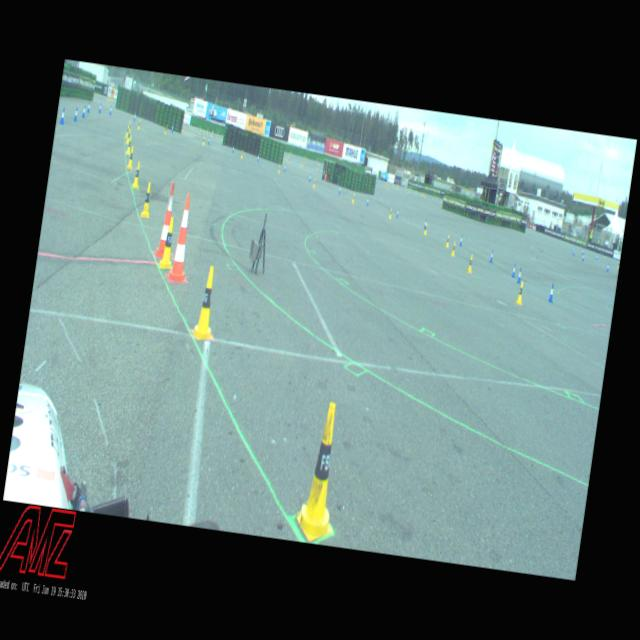blue_cone: (548, 284, 555, 302), (60, 108, 66, 124), (516, 268, 522, 284), (512, 264, 517, 278), (74, 106, 78, 122), (489, 250, 494, 262), (459, 234, 464, 246), (82, 106, 86, 118), (606, 263, 610, 272), (338, 185, 342, 194), (308, 174, 312, 182), (424, 218, 427, 228), (109, 106, 112, 115), (396, 209, 399, 218), (99, 103, 102, 112), (366, 197, 369, 206), (171, 124, 174, 133), (232, 145, 235, 153), (88, 102, 90, 113), (208, 136, 210, 146), (134, 112, 136, 121), (284, 164, 286, 172), (573, 248, 575, 256), (583, 253, 585, 260), (258, 155, 260, 162), (596, 254, 598, 260), (582, 248, 584, 254), (573, 246, 574, 252)
large_orange_cone: (167, 194, 198, 282), (155, 182, 176, 258)
yellow_cone: (294, 400, 349, 542), (191, 266, 222, 342), (158, 216, 178, 268), (141, 182, 154, 218), (132, 161, 142, 188), (516, 280, 525, 304), (127, 146, 135, 169), (467, 255, 474, 273), (126, 136, 132, 154), (451, 242, 456, 256), (445, 235, 450, 248), (423, 223, 428, 236), (126, 124, 130, 138), (126, 130, 130, 144), (128, 121, 132, 134), (388, 208, 392, 218), (138, 120, 141, 130), (313, 179, 316, 188), (165, 125, 168, 134), (202, 136, 205, 145), (241, 150, 244, 159), (352, 194, 354, 204), (278, 164, 280, 173), (618, 262, 620, 269)
